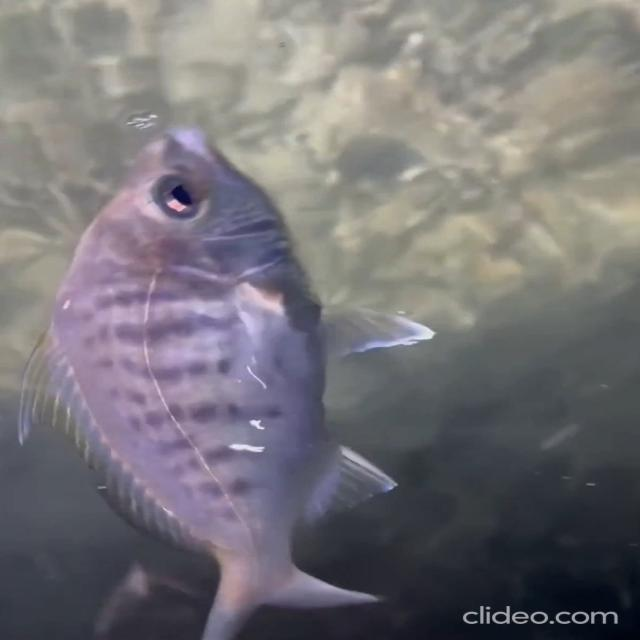fish: (6, 82, 436, 640)
